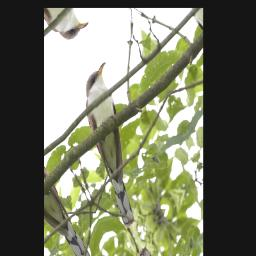Cuckoo: (69, 59, 163, 230)
